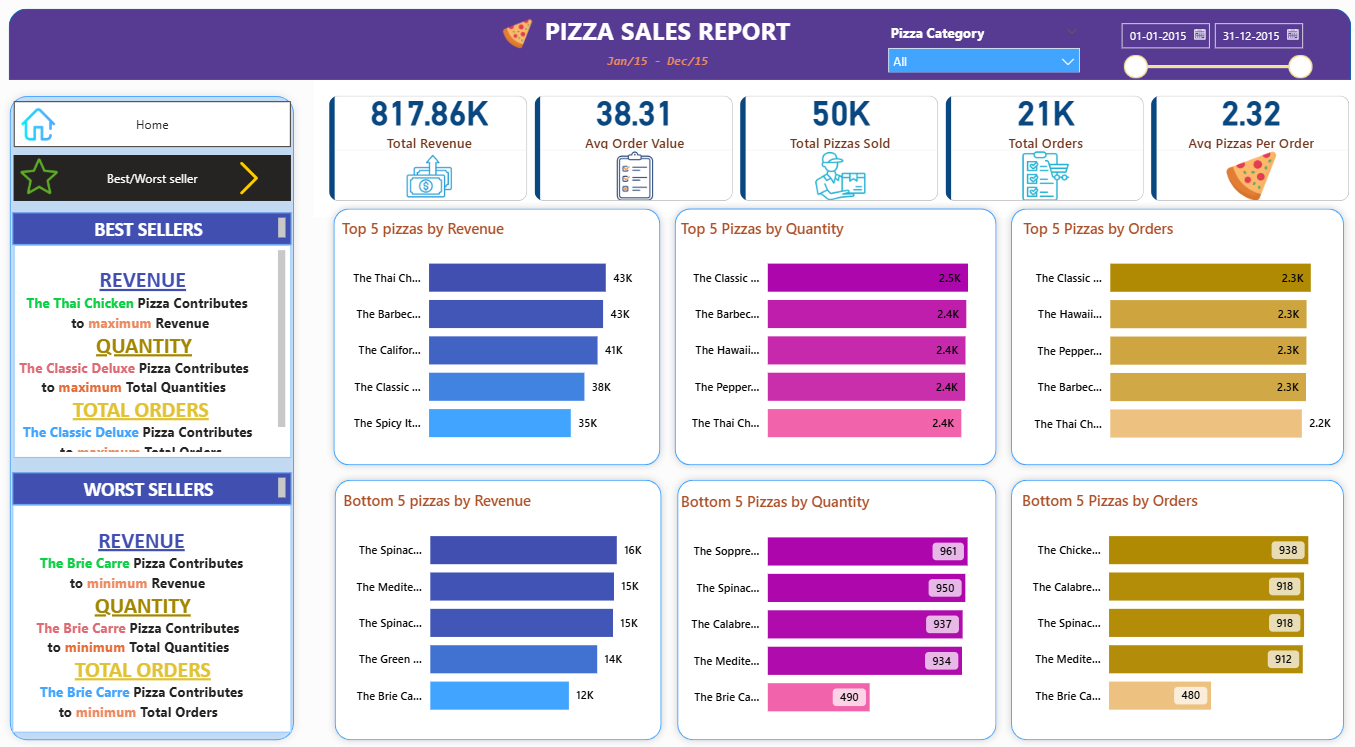

Layout of this report page (visuals, bound fields, positions):
{"tool":"powerbi","page":{"name":"Best/Worst seller","canvas":[1500,820],"ordinal":1},"visuals":[{"type":"cardVisual","fields":{"Data":["pizza_sales.Total Revenue","pizza_sales.Avg Order Value","pizza_sales.Total Pizzas Sold","pizza_sales.Total Orders","pizza_sales.Avg Pizzas Per Order"]},"box":[352.9,92.7,1147.4,149.9],"z":0},{"type":"shape","box":[13.6,102.2,325.7,718.1],"z":1000},{"type":"shape","box":[20.4,15,1463.5,77.7],"z":2000},{"type":"textbox","box":[24.5,237.1,303.9,35.4],"z":3000},{"type":"textbox","box":[594.1,15,288.9,53.1],"z":4000},{"type":"textbox","box":[667.7,57.2,140.4,30],"z":5000},{"type":"image","box":[554.6,25.9,40.9,32.7],"z":6000},{"type":"shape","box":[366.6,224.8,372,295.7],"z":7000},{"type":"textbox","box":[25.9,272.5,302.5,231.7],"z":8000},{"type":"textbox","box":[24.5,556,303.9,248],"z":9000},{"type":"textbox","box":[24.5,520.5,303.9,35.4],"z":10000},{"type":"slicer","fields":{"Values":["pizza_sales.pizza_category"]},"box":[968.8,25.9,228.9,58.6],"z":11000},{"type":"slicer","fields":{"Values":["pizza_sales.order_date"]},"box":[1220.9,20.4,228.9,72.2],"z":12000},{"type":"shape","box":[1105.1,224.8,378.8,295.7],"z":13000},{"type":"shape","box":[738.6,224.8,366.6,295.7],"z":14000},{"type":"shape","box":[367.9,520.5,372,299.8],"z":15000},{"type":"shape","box":[741.3,520.5,363.8,299.8],"z":16000},{"type":"shape","box":[1105.1,520.5,378.8,299.8],"z":17000},{"type":"barChart","title":"Top 5 pizzas by Revenue","fields":{"Category":["pizza_sales.pizza_name"],"Y":["pizza_sales.Total Revenue"]},"box":[378.8,242.6,347.5,261.6],"z":18000},{"type":"barChart","title":"Bottom 5 pizzas by Revenue","fields":{"Category":["pizza_sales.pizza_name"],"Y":["pizza_sales.Total Revenue"]},"box":[380.2,539.6,347.5,261.6],"z":19000},{"type":"barChart","title":"Top 5 Pizzas by Quantity","fields":{"Category":["pizza_sales.pizza_name"],"Y":["pizza_sales.Total Pizzas Sold"]},"box":[748.1,242.6,347.5,261.6],"z":20000},{"type":"barChart","title":"Bottom 5 Pizzas by Quantity","fields":{"Category":["pizza_sales.pizza_name"],"Y":["pizza_sales.Total Pizzas Sold"]},"box":[747.8,540.3,347.3,262.1],"z":21000},{"type":"barChart","title":"Top 5 Pizzas by Orders","fields":{"Category":["pizza_sales.pizza_name"],"Y":["pizza_sales.Total Orders"]},"box":[1120.8,242.8,349,262.1],"z":22000},{"type":"barChart","title":"Bottom 5 Pizzas by Orders","fields":{"Category":["pizza_sales.pizza_name"],"Y":["pizza_sales.Total Orders"]},"box":[1120.1,539.6,348.8,261.6],"z":23000},{"type":"pageNavigator","box":[25.9,115.8,302.5,50.4],"z":24000},{"type":"pageNavigator","box":[25.9,174.4,302.5,50.4],"z":25000},{"type":"image","box":[248,181.2,69.5,36.8],"z":26000},{"type":"image","box":[28.6,122.6,47.7,36.8],"z":27000},{"type":"image","box":[30,177.1,47.7,40.9],"z":28000}]}

Visuals, with their boxes in screenshot pixels (x1, y1, x2, y2), scaled from the page's 1500x820 canvas onto the 1355x747 screenshot:
cardVisual - pizza_sales.Total Revenue x pizza_sales.Avg Order Value: <box>319,84,1354,221</box>
shape: <box>12,93,307,746</box>
shape: <box>18,14,1340,84</box>
textbox: <box>22,216,297,248</box>
textbox: <box>537,14,798,62</box>
textbox: <box>603,52,730,79</box>
image: <box>501,24,538,53</box>
shape: <box>331,205,667,474</box>
textbox: <box>23,248,297,459</box>
textbox: <box>22,507,297,732</box>
textbox: <box>22,474,297,506</box>
slicer - pizza_sales.pizza_category: <box>875,24,1082,77</box>
slicer - pizza_sales.order_date: <box>1103,19,1310,84</box>
shape: <box>998,205,1340,474</box>
shape: <box>667,205,998,474</box>
shape: <box>332,474,668,746</box>
shape: <box>670,474,998,746</box>
shape: <box>998,474,1340,746</box>
"Top 5 pizzas by Revenue" barChart: <box>342,221,656,459</box>
"Bottom 5 pizzas by Revenue" barChart: <box>343,492,657,730</box>
"Top 5 Pizzas by Quantity" barChart: <box>676,221,990,459</box>
"Bottom 5 Pizzas by Quantity" barChart: <box>676,492,989,731</box>
"Top 5 Pizzas by Orders" barChart: <box>1012,221,1328,460</box>
"Bottom 5 Pizzas by Orders" barChart: <box>1012,492,1327,730</box>
pageNavigator: <box>23,105,297,151</box>
pageNavigator: <box>23,159,297,205</box>
image: <box>224,165,287,199</box>
image: <box>26,112,69,145</box>
image: <box>27,161,70,199</box>
